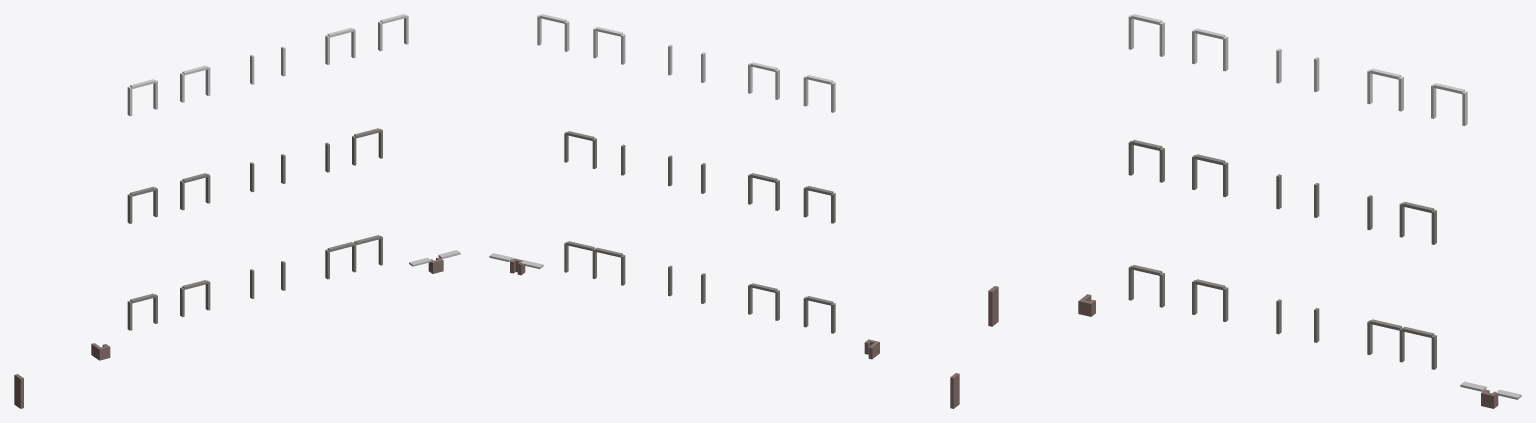
The picture shows the model from 3 angles, left to right: view 1: azimuth 30°, elevation 25°; view 2: azimuth 150°, elevation 25°; view 3: azimuth 330°, elevation 25°; orthographic projection. The views are drawn at different scales.
Bounding box in the file's own units: 13.12 × 8.13 × 0.6648.
